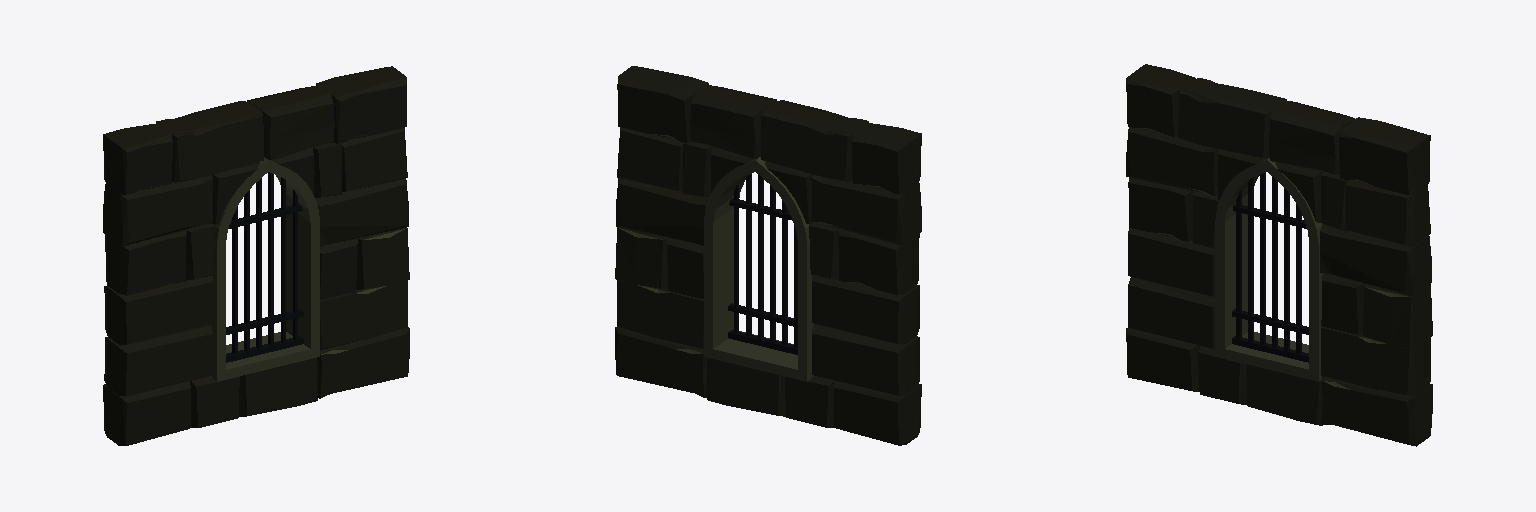
The model's file is Window_Bars.obj.
3 views of the same model, side by side, from view 1: azimuth 30°, elevation 25°; view 2: azimuth 150°, elevation 25°; view 3: azimuth 330°, elevation 25° (orthographic).
Visible parts, largest first — view 1: Window_Bars_Cube.015; view 2: Window_Bars_Cube.015; view 3: Window_Bars_Cube.015.
Boxes of the visible parts, <box> form: Window_Bars_Cube.015: <box>103,66,409,445</box>; Window_Bars_Cube.015: <box>615,66,921,445</box>; Window_Bars_Cube.015: <box>1126,64,1432,446</box>.
Size of the model in its own units: 1.99 by 1.99 by 0.3029.